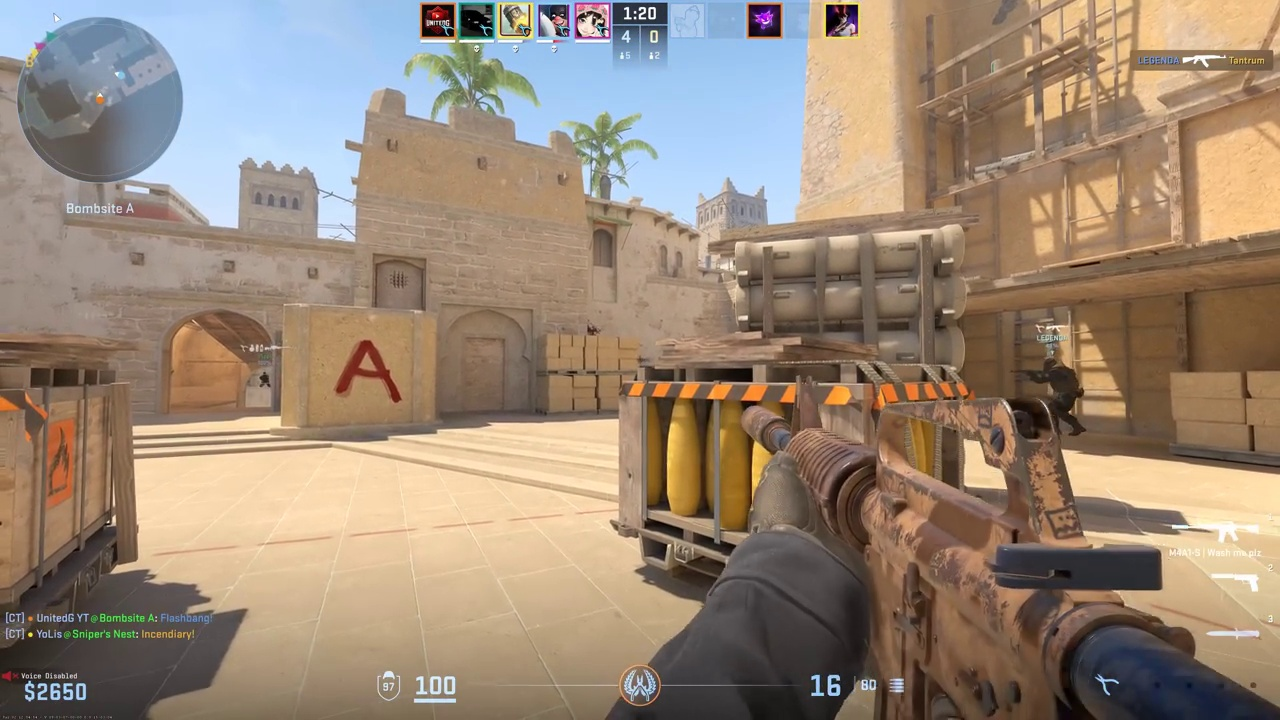CT: (1040, 358, 1084, 436), (260, 372, 270, 387)
